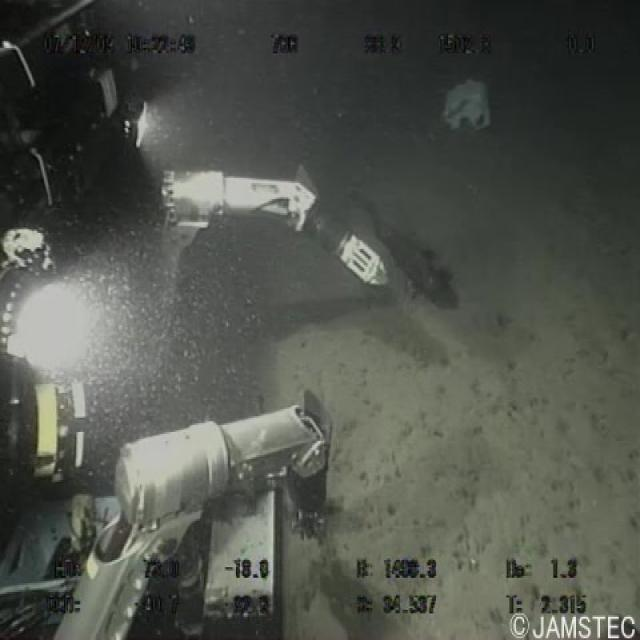plastic: (435, 71, 497, 135)
